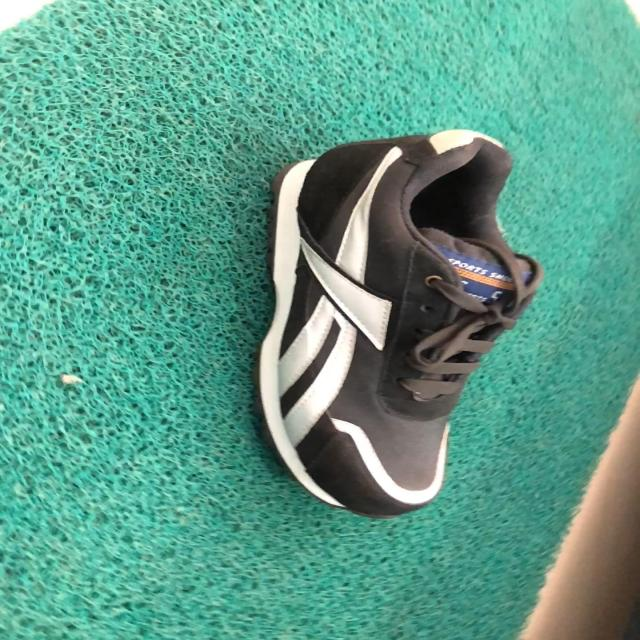shoe: (256, 131, 544, 521)
